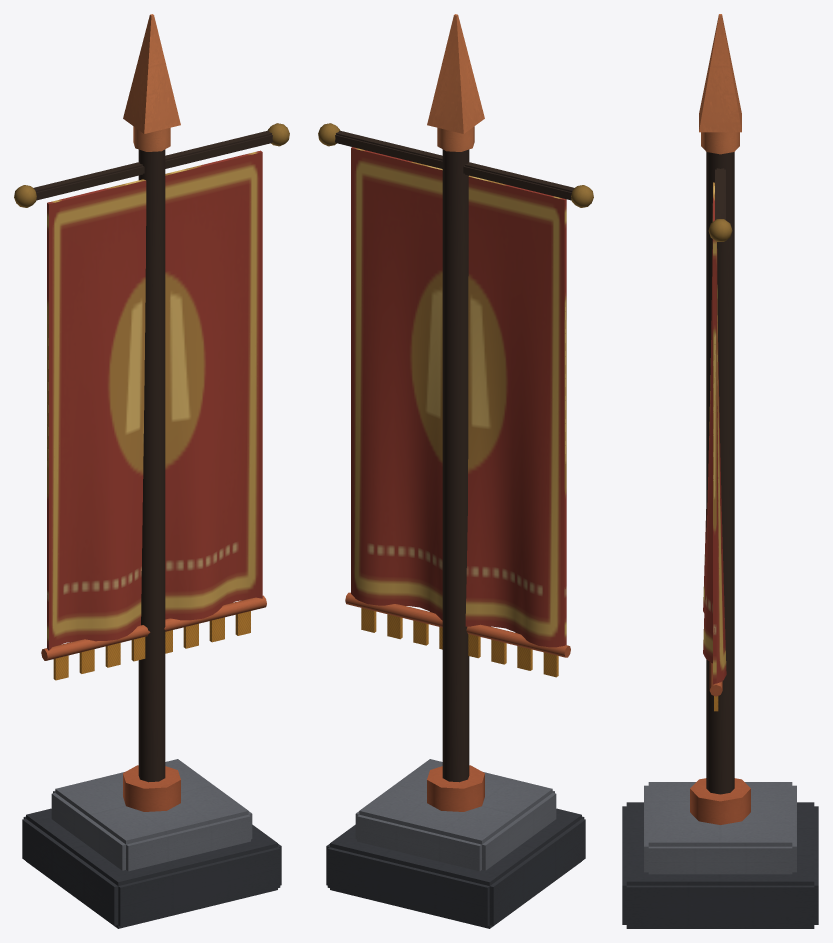
File: banner_lagto_clan.glb
3 renders of one model, left to right at view 1: azimuth 30°, elevation 25°; view 2: azimuth 150°, elevation 25°; view 3: azimuth 270°, elevation 25°, orthographic.
Parts seen in each view (by area): view 1: banner_lagto_clan; view 2: banner_lagto_clan; view 3: banner_lagto_clan.
Boxes of the visible parts, x1=… form: banner_lagto_clan: x1=14, y1=14, x2=289, y2=928; banner_lagto_clan: x1=318, y1=14, x2=593, y2=928; banner_lagto_clan: x1=622, y1=14, x2=818, y2=928.
Size of the model in its own units: 1.46 by 4.43 by 0.9.
Materials: 1 (1 with a texture image).
